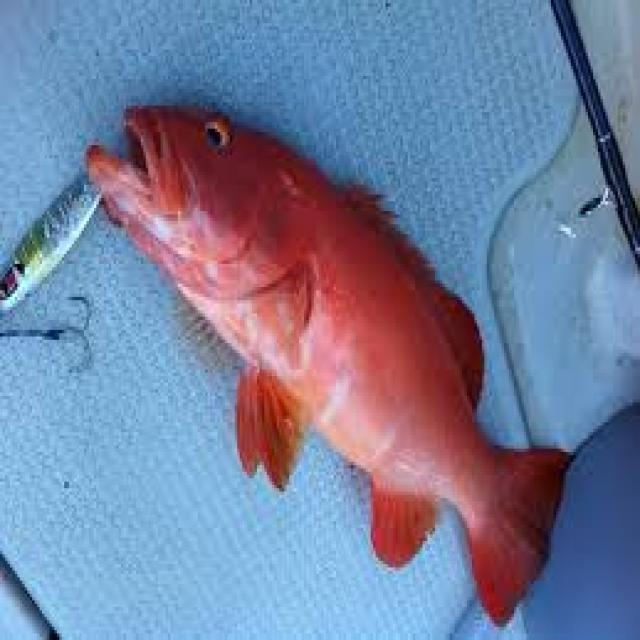Leopard coral grouper: (86, 76, 577, 615)
